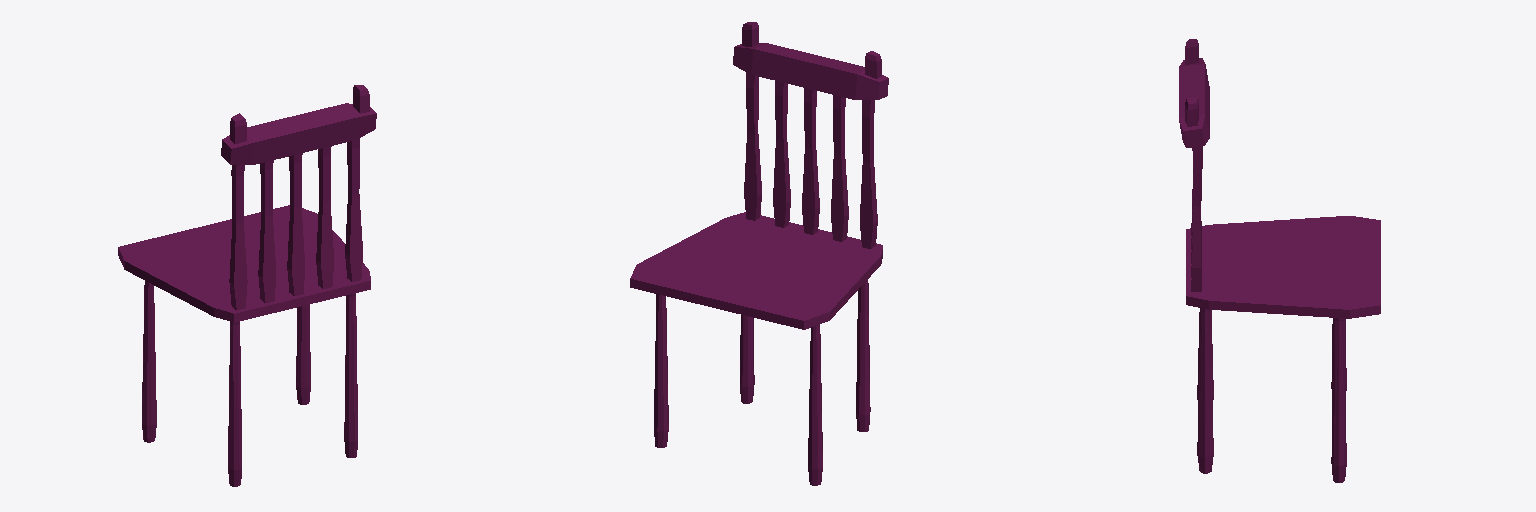
The model's file is ChairMat.obj.
The picture shows the model from 3 angles: view 1: azimuth 30°, elevation 25°; view 2: azimuth 150°, elevation 25°; view 3: azimuth 270°, elevation 25°; orthographic projection.
Parts seen in each view (by area): view 1: back1; view 2: back1; view 3: back1.
Boxes of the visible parts, x1=… form: back1: x1=118, y1=85, x2=376, y2=486; back1: x1=630, y1=22, x2=888, y2=485; back1: x1=1179, y1=39, x2=1380, y2=482.
Bounding box in the file's own units: 5.01 × 9.27 × 4.56.